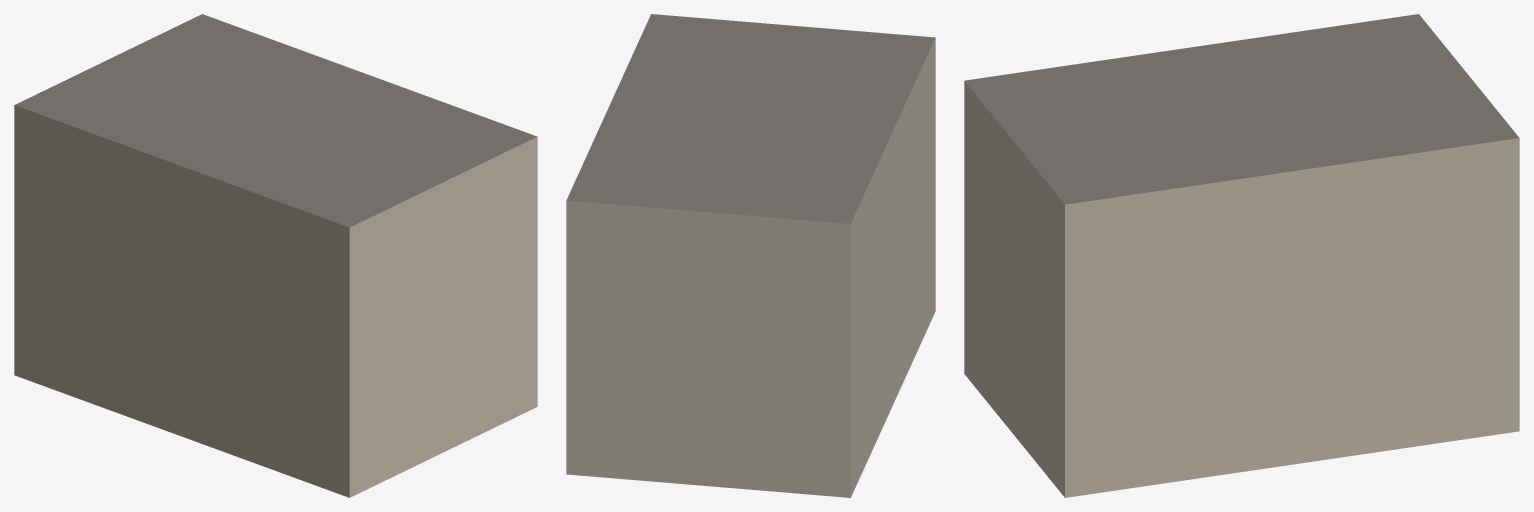
The picture shows the model from 3 angles, left to right: view 1: azimuth 30°, elevation 25°; view 2: azimuth 150°, elevation 25°; view 3: azimuth 270°, elevation 25°; orthographic projection. The views are drawn at different scales.
Parts seen in each view (by area): view 1: HP-w369317512; view 2: HP-w369317512; view 3: HP-w369317512.
Part boxes in pixels (<box>): HP-w369317512: <box>14,14,537,497</box>; HP-w369317512: <box>566,14,935,497</box>; HP-w369317512: <box>964,14,1519,497</box>.
Size of the model in its own units: 25.09 by 18 by 30.88.
